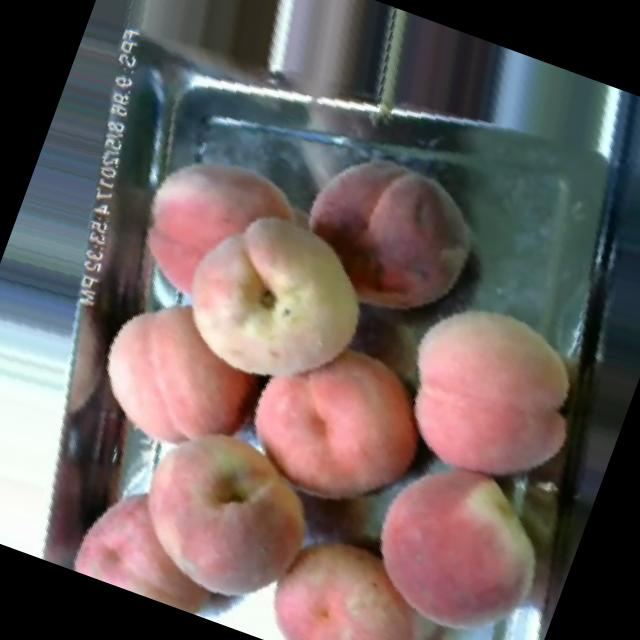Fruit: (86, 377, 366, 640), (152, 166, 411, 430), (207, 297, 470, 553), (266, 111, 518, 355), (368, 264, 622, 502), (320, 430, 585, 640), (61, 259, 296, 492), (108, 119, 316, 333), (237, 491, 479, 640)
